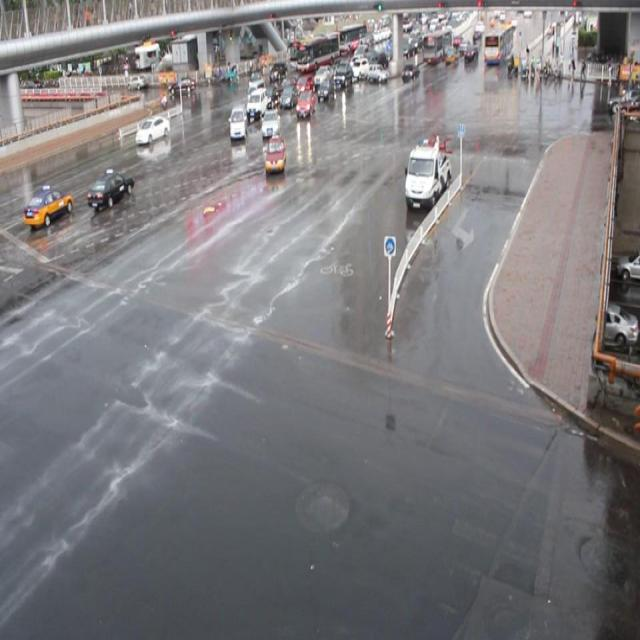bus: (404, 144, 452, 212)
car: (23, 185, 73, 225), (87, 169, 134, 208), (135, 115, 170, 145), (264, 134, 286, 172), (295, 89, 316, 117), (260, 110, 280, 136), (256, 89, 278, 111), (290, 76, 311, 98), (278, 85, 298, 107), (316, 78, 335, 100)
truck: (228, 103, 248, 139), (243, 90, 265, 122), (246, 79, 266, 102)
